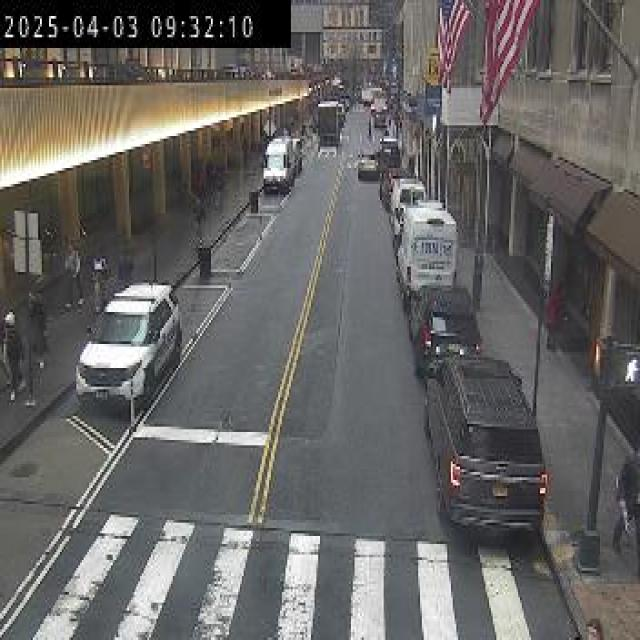open parking: (201, 192, 288, 306)
parkedCars: (389, 174, 572, 578)
